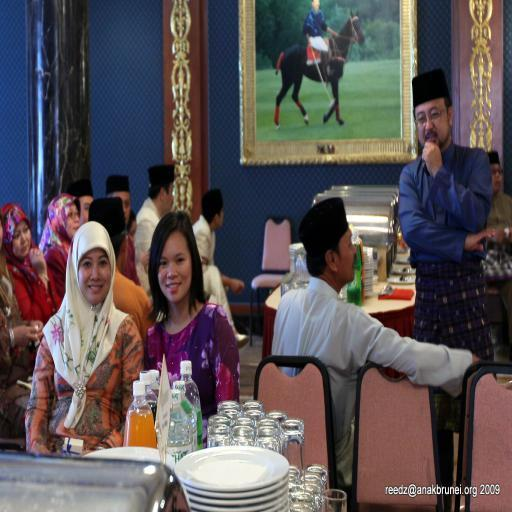horse: (271, 8, 366, 132)
